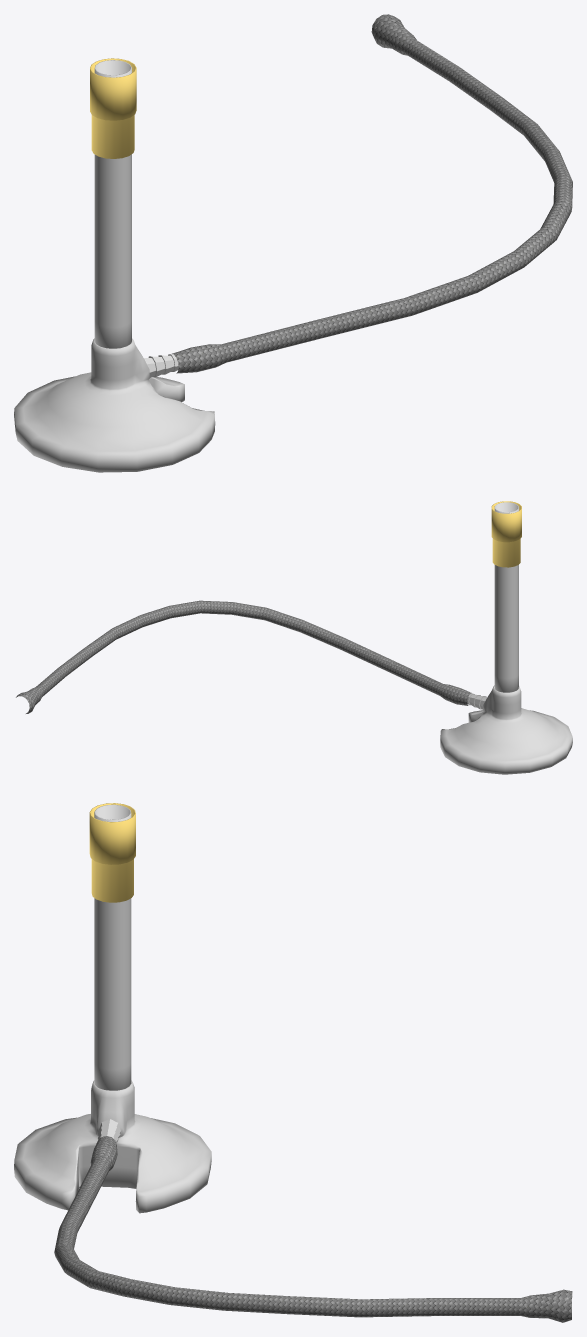
Rendered from bunsenburner.gltf.
3 views of the same model, one above another, from view 1: azimuth 30°, elevation 25°; view 2: azimuth 150°, elevation 25°; view 3: azimuth 270°, elevation 25° (orthographic). The views are drawn at different scales.
Visible parts, largest first — view 1: bunsenbase, bunsenhose, bunsenstem, bunsenhead, bunsengas; view 2: bunsenbase, bunsenhose, bunsenstem, bunsenhead; view 3: bunsenbase, bunsenhose, bunsenstem, bunsenhead.
Part boxes in pixels (x1,y1,x2,y2): bunsenbase: (14, 338, 215, 472); bunsenhose: (172, 14, 572, 373); bunsenstem: (94, 60, 131, 348); bunsenhead: (90, 58, 136, 158); bunsengas: (143, 354, 178, 377); bunsenbase: (440, 685, 572, 774); bunsenhose: (16, 600, 471, 713); bunsenstem: (494, 502, 518, 692); bunsenhead: (491, 501, 521, 567); bunsenbase: (14, 1080, 211, 1213); bunsenhose: (54, 1136, 572, 1322); bunsenstem: (94, 804, 131, 1090); bunsenhead: (89, 803, 135, 902).
Bounding box in the file's own units: 1.35 × 0.7814 × 1.1.
Materials: 3 (1 with a texture image).
